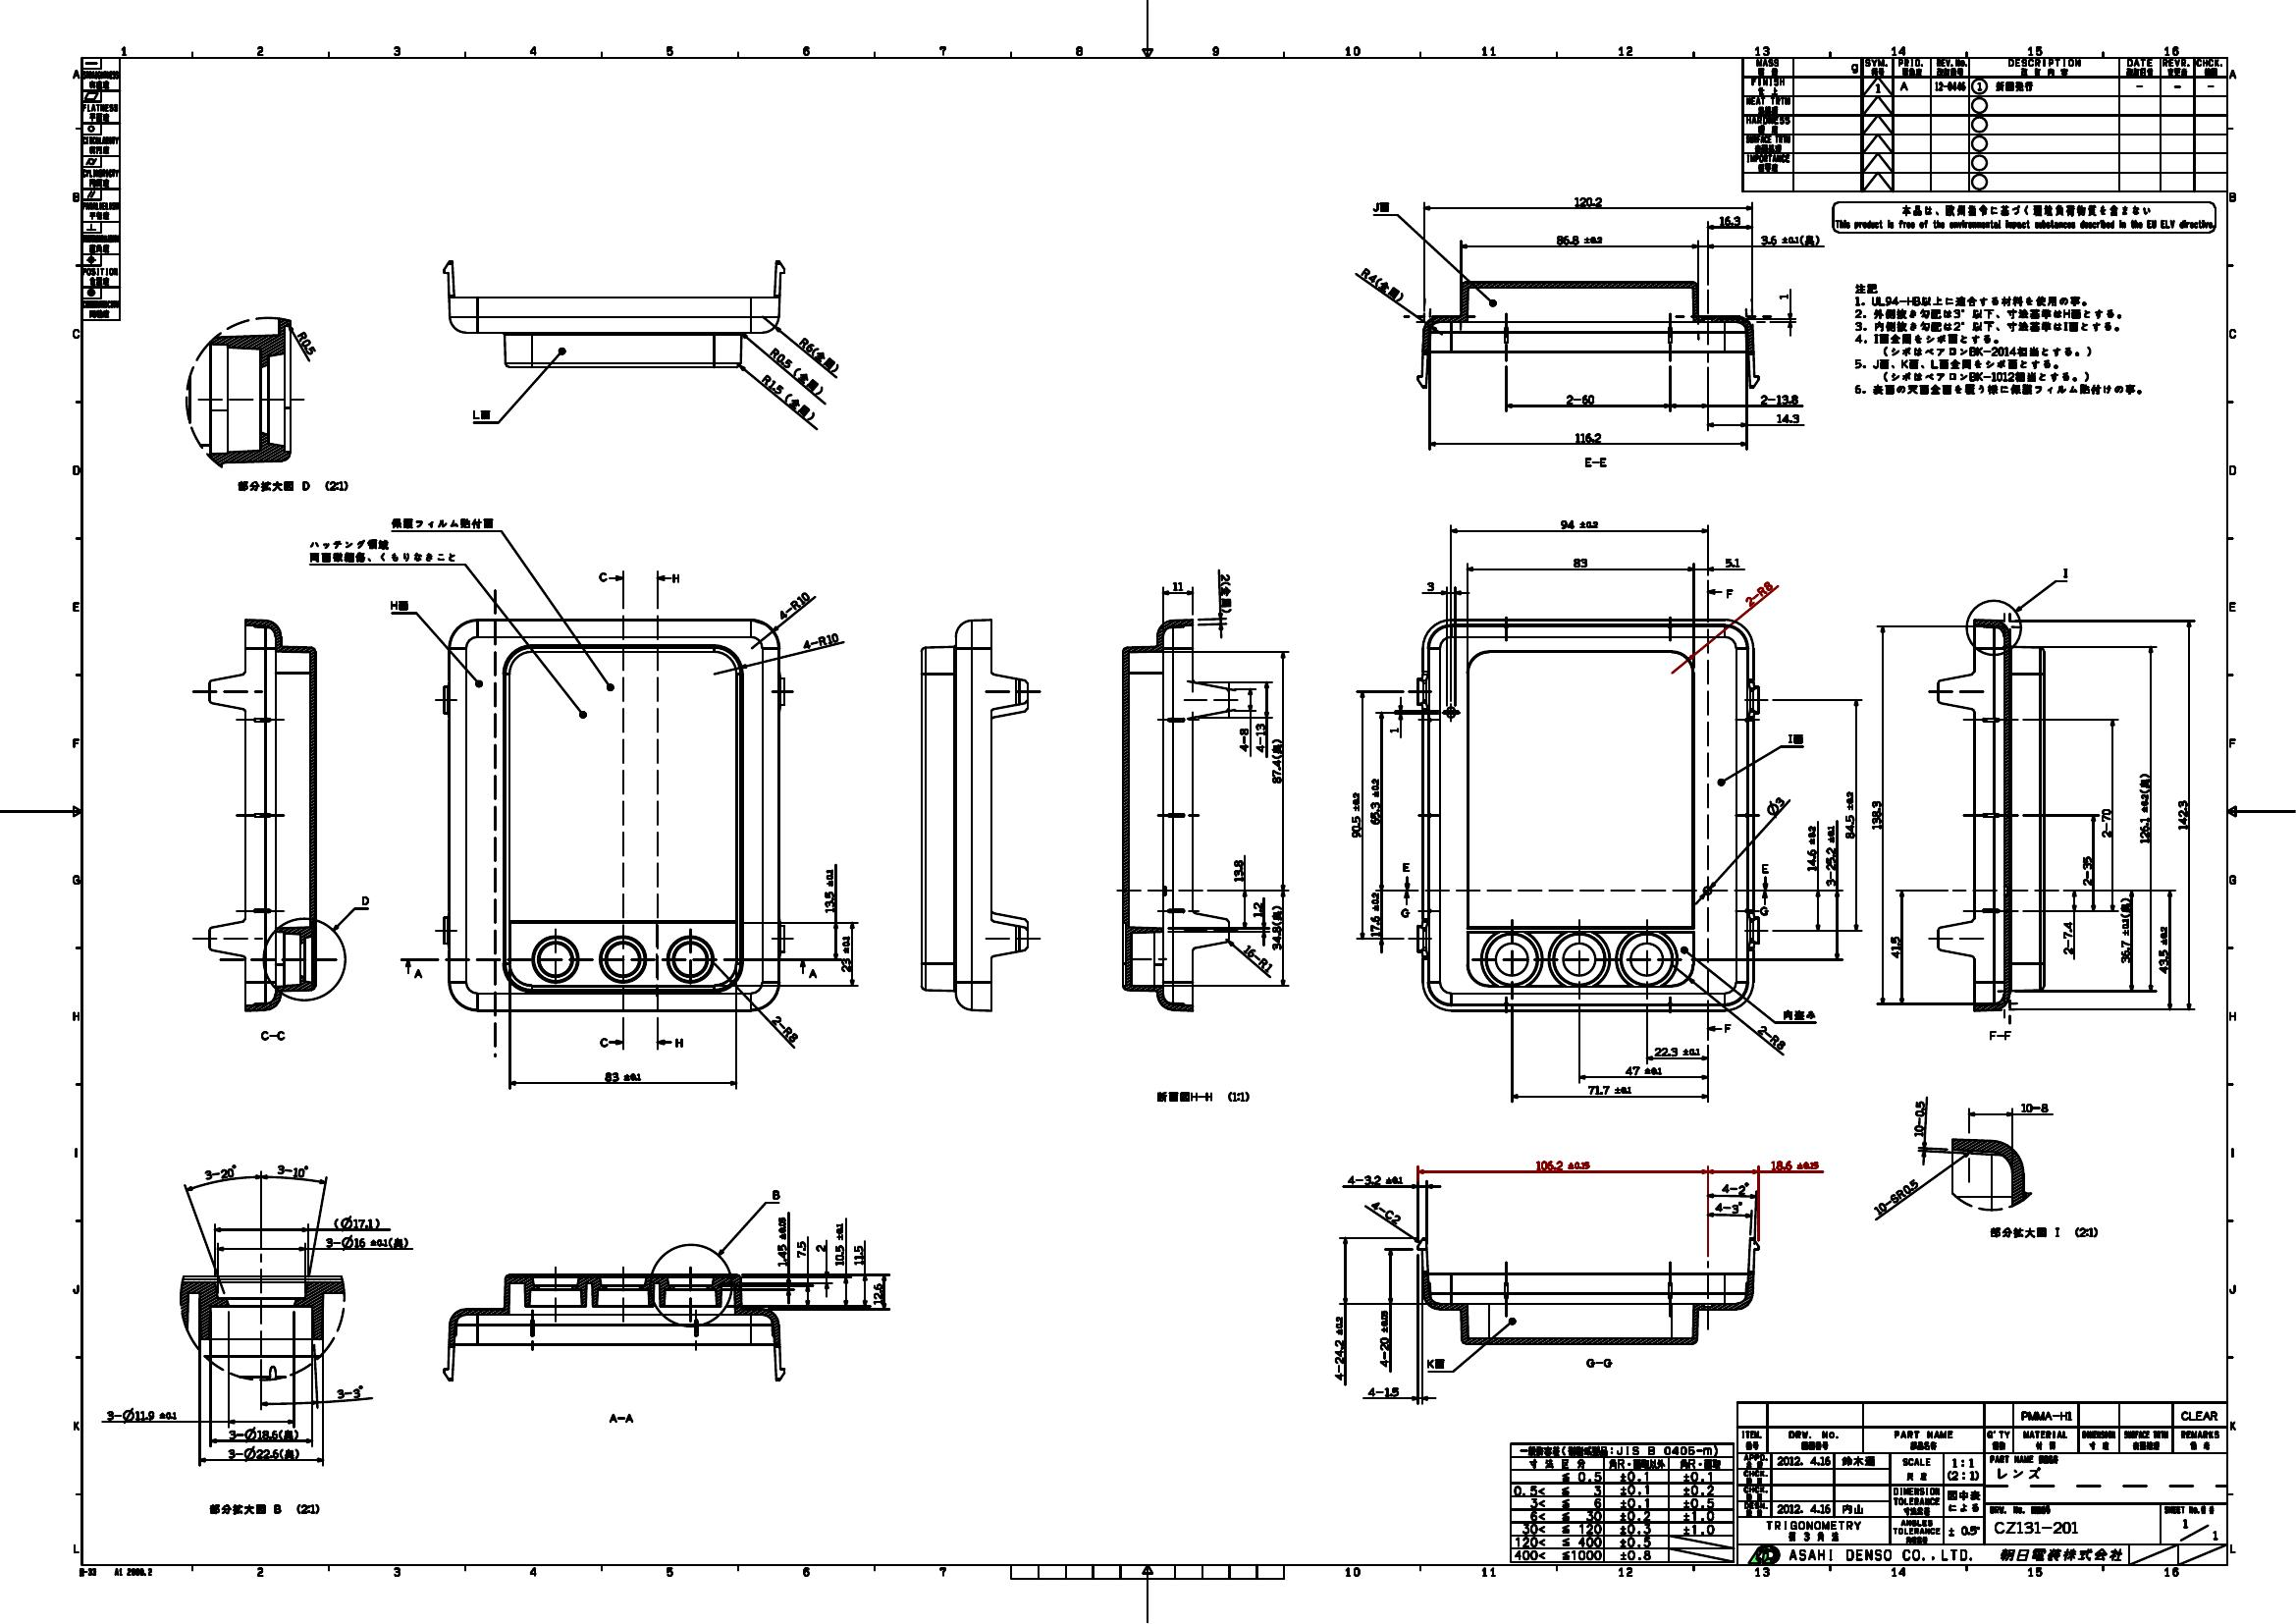anntotation_text: (1852, 279, 2145, 399), (1830, 199, 2217, 234), (307, 540, 457, 566), (388, 515, 495, 533), (207, 1501, 320, 1517), (1989, 1225, 2099, 1241), (235, 480, 350, 492), (1152, 1090, 1251, 1104), (1780, 1005, 1816, 1023), (1583, 1355, 1613, 1369), (256, 1028, 286, 1042), (1583, 455, 1609, 471), (606, 1411, 634, 1424), (1425, 1355, 1446, 1371), (469, 408, 492, 422), (388, 598, 408, 613), (1987, 1028, 2011, 1040), (1397, 905, 1412, 921), (1370, 200, 1390, 213), (769, 1185, 782, 1204), (1787, 731, 1802, 745), (1722, 585, 1736, 601), (597, 1035, 610, 1049), (671, 1035, 683, 1049), (411, 967, 423, 981), (669, 571, 682, 585), (2059, 564, 2069, 580), (1758, 861, 1769, 877), (597, 571, 610, 584), (1398, 861, 1411, 874), (806, 967, 817, 981), (360, 893, 371, 907), (1758, 905, 1769, 917), (1722, 1021, 1732, 1033)
dimension_text: (323, 1236, 411, 1251), (1330, 1313, 1347, 1383), (762, 364, 831, 381), (227, 1445, 300, 1461), (104, 1408, 177, 1424), (2136, 772, 2152, 845), (1758, 230, 1822, 248), (2117, 896, 2133, 965), (755, 390, 822, 406), (227, 1427, 299, 1441), (1823, 824, 1838, 889), (792, 346, 843, 364), (1377, 1309, 1391, 1369), (1583, 1083, 1634, 1098), (1356, 276, 1407, 292), (1802, 824, 1818, 875), (1534, 1158, 1590, 1172), (1367, 889, 1383, 939), (822, 866, 838, 916), (1555, 232, 1604, 248), (332, 1214, 379, 1230), (775, 1214, 789, 1267), (1346, 1174, 1405, 1186), (1651, 1044, 1702, 1058), (1843, 789, 1857, 840), (1347, 789, 1361, 840), (1217, 571, 1233, 615), (601, 1069, 645, 1084), (1867, 1192, 1924, 1204), (2155, 924, 2170, 974), (1367, 777, 1381, 826), (1270, 905, 1284, 953), (1757, 390, 1799, 406), (833, 1222, 847, 1267), (803, 633, 841, 649), (272, 1164, 311, 1179), (1270, 736, 1282, 786), (1621, 1065, 1664, 1079), (1558, 518, 1600, 533), (775, 598, 815, 612), (840, 933, 854, 974), (1751, 1030, 1790, 1044), (1562, 392, 1595, 408), (1720, 1179, 1750, 1197), (202, 1165, 239, 1179), (1913, 1100, 1927, 1137), (2018, 1100, 2050, 1116), (1365, 1385, 1400, 1399), (1253, 721, 1267, 754), (769, 1023, 803, 1037), (2175, 798, 2189, 831), (2080, 854, 2094, 888), (1869, 798, 1883, 831), (1716, 213, 1743, 230), (1367, 1206, 1404, 1218), (2062, 919, 2075, 956), (2099, 807, 2113, 838), (1240, 953, 1275, 965), (1570, 195, 1606, 207), (1570, 431, 1606, 443), (334, 1385, 364, 1399), (1230, 858, 1245, 884), (850, 1243, 866, 1267), (1764, 798, 1788, 814), (871, 1280, 885, 1306), (1715, 1200, 1743, 1213), (292, 337, 320, 350), (1774, 411, 1801, 424), (1888, 935, 1903, 958), (1238, 724, 1249, 754), (1251, 898, 1265, 919), (794, 1237, 806, 1258), (1166, 580, 1184, 594), (1722, 555, 1741, 568), (1572, 555, 1588, 569), (813, 1243, 827, 1253), (1776, 292, 1790, 302), (1388, 726, 1400, 735), (1425, 580, 1433, 592)
object: (441, 617, 787, 1014), (1416, 615, 1760, 1014), (1934, 617, 2048, 1014), (1119, 617, 1231, 1014), (919, 617, 1029, 1014), (206, 617, 316, 1012), (441, 258, 787, 369), (441, 1272, 787, 1383), (1416, 279, 1760, 390), (1416, 1236, 1760, 1345), (177, 1274, 346, 1380), (183, 316, 293, 469), (1948, 1135, 2034, 1211)
title_block: (1736, 1399, 2229, 1568), (1741, 54, 2231, 193), (1507, 1441, 1736, 1564), (79, 54, 121, 322)
